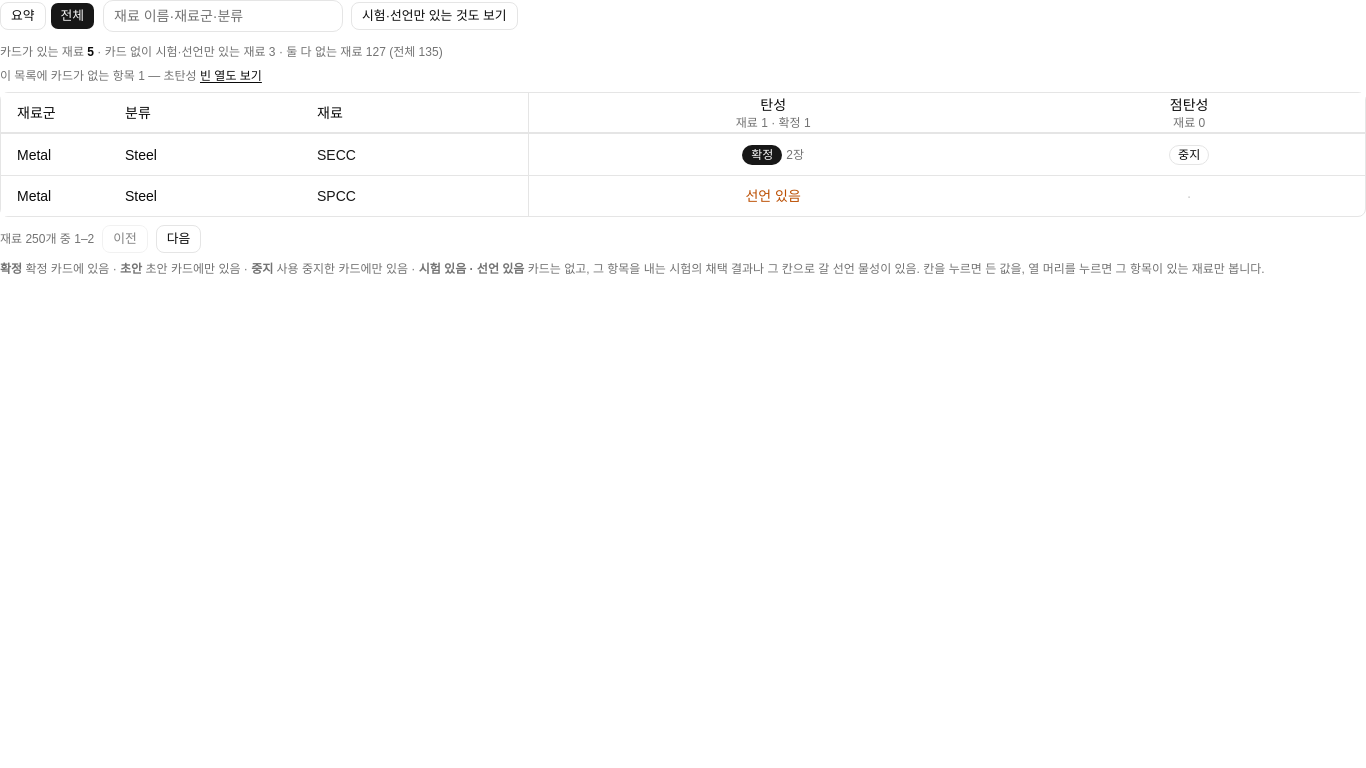
Scenario: 전체 › 칸을 누르면 그때 값을 받아 표시 단위로 보인다
Click the button with aria-label "SECC · 탄성 자세히". click: [773, 154]
box: top-left (738, 142), bottom-right (808, 167)
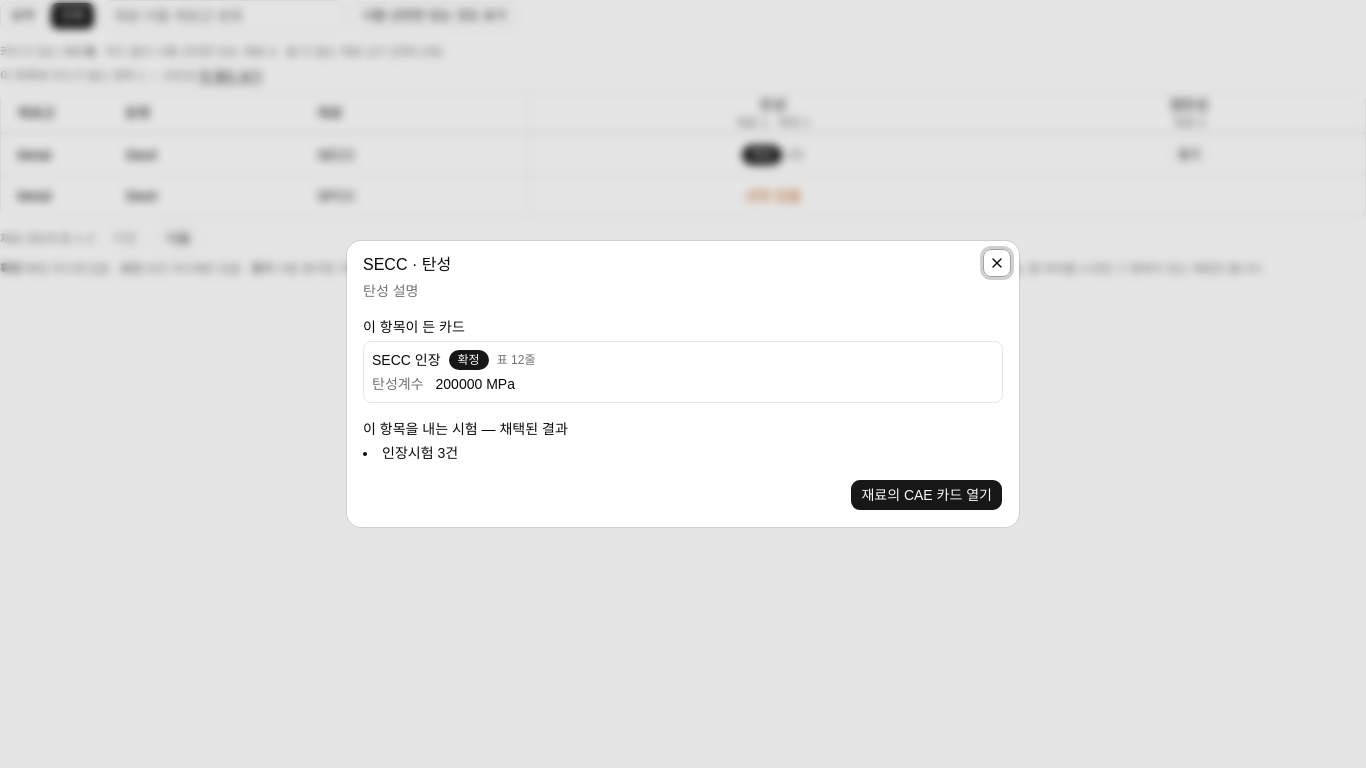
Expected: the text "200000 MPa" is shown, top-left (436, 376), bottom-right (515, 392)
Expected: the text "탄성 설명" is shown, top-left (363, 283), bottom-right (418, 299)
Expected: the text "표 12줄" is shown, top-left (497, 352), bottom-right (535, 368)
